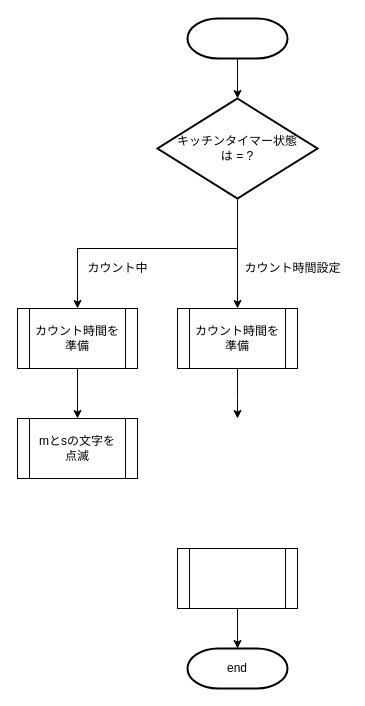
Some shapes in this 365 by 706 pixel diagram are drawn without their labels. The box of each missing label's shape, as (x1, y1, x2, y2) in pixels:
LCD更新: (186, 17, 288, 59)
準備した値を LCDへ表示: (176, 548, 298, 608)
